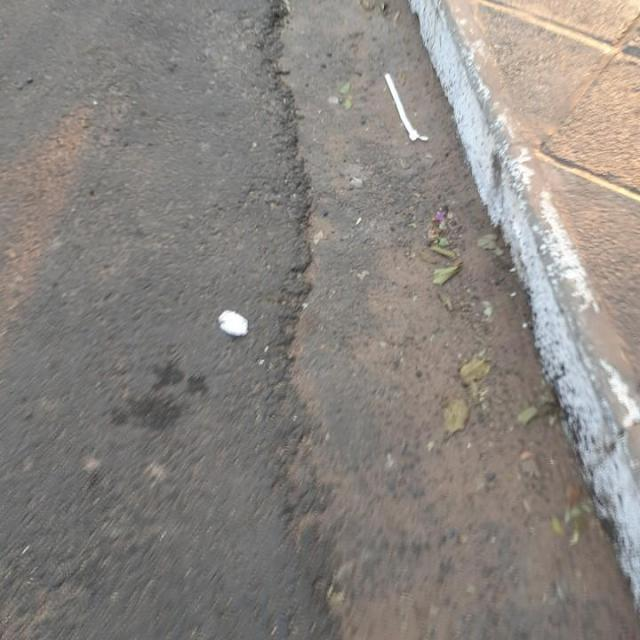litter: (375, 59, 434, 152)
